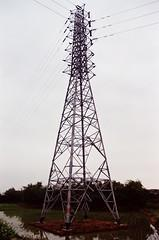power_tower: (42, 2, 123, 226)
